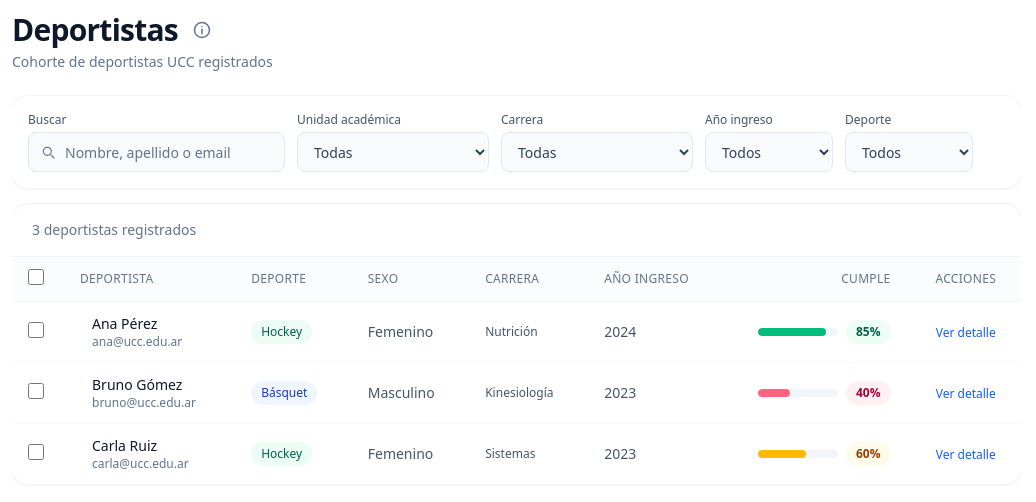
it: Deportistas › un select filtra apenas cambia
Select "Básquet" in the dropdown labelled "Deporte": x=909, y=152 [845,132,973,172]
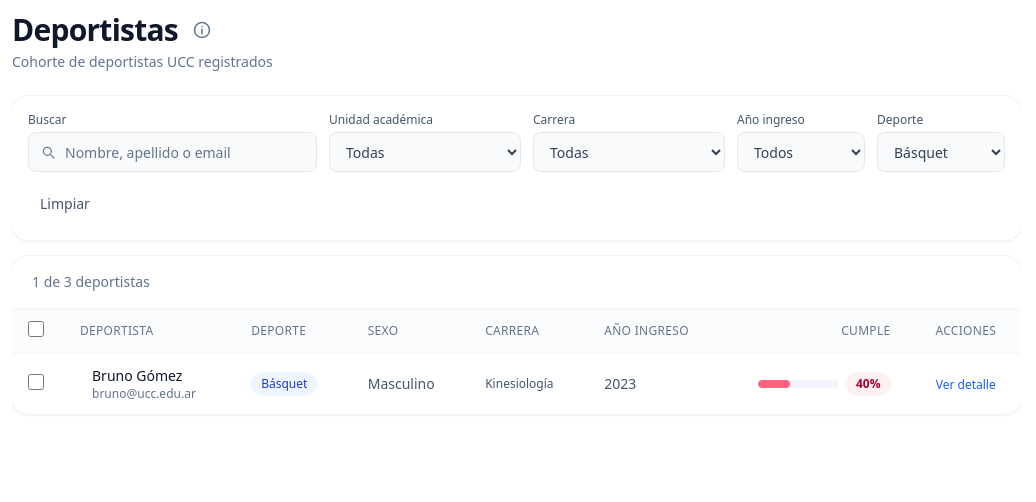
expect the text "Bruno Gómez" is shown: met, box [92,366,196,386]
expect the text "Ana Pérez" is gone: met
expect the text "1 de 3 deportistas" is shown: met, box [32,272,150,291]
